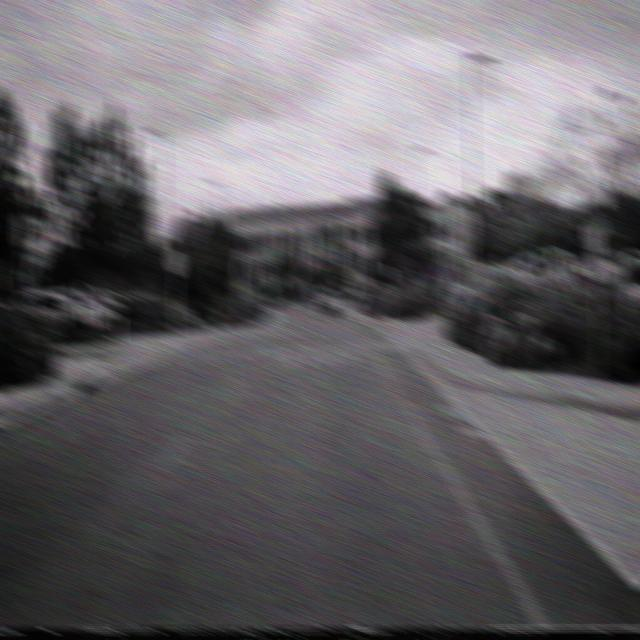stop_sign: (434, 189, 459, 233)
